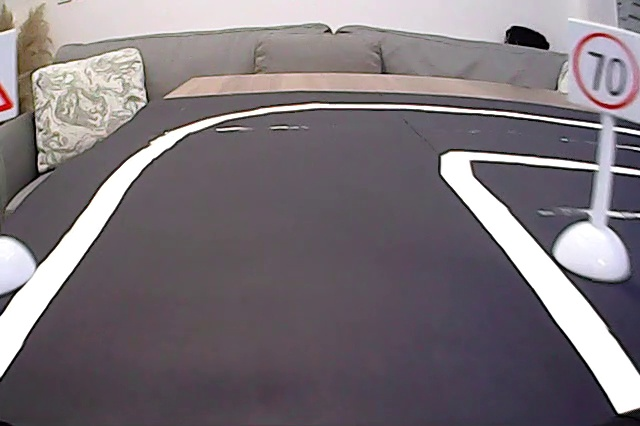speed limit 70: (569, 20, 640, 112)
